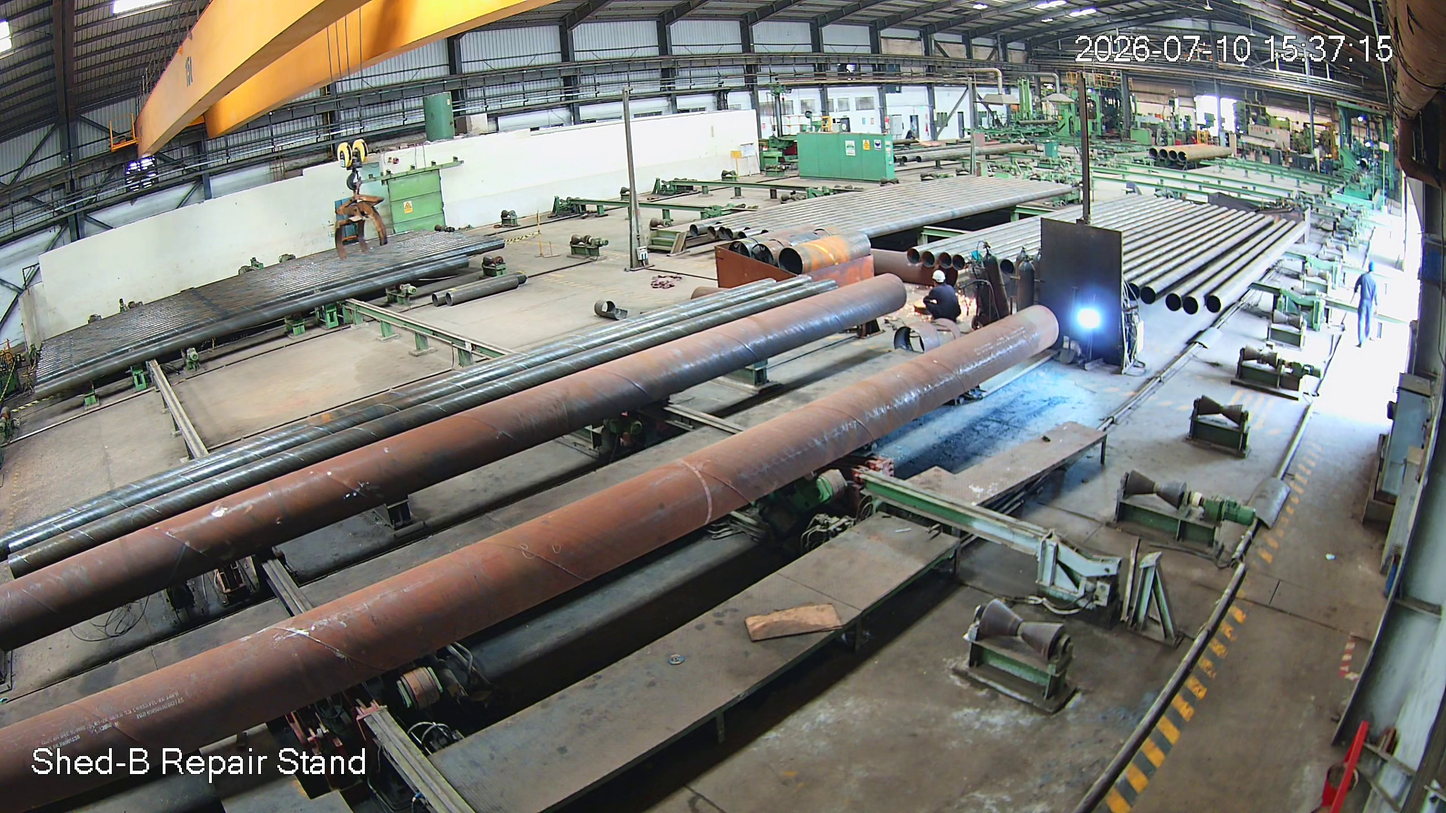Helmet: (928, 264, 947, 288), (1365, 258, 1381, 284)
Person: (924, 269, 965, 330), (1359, 263, 1379, 345)
